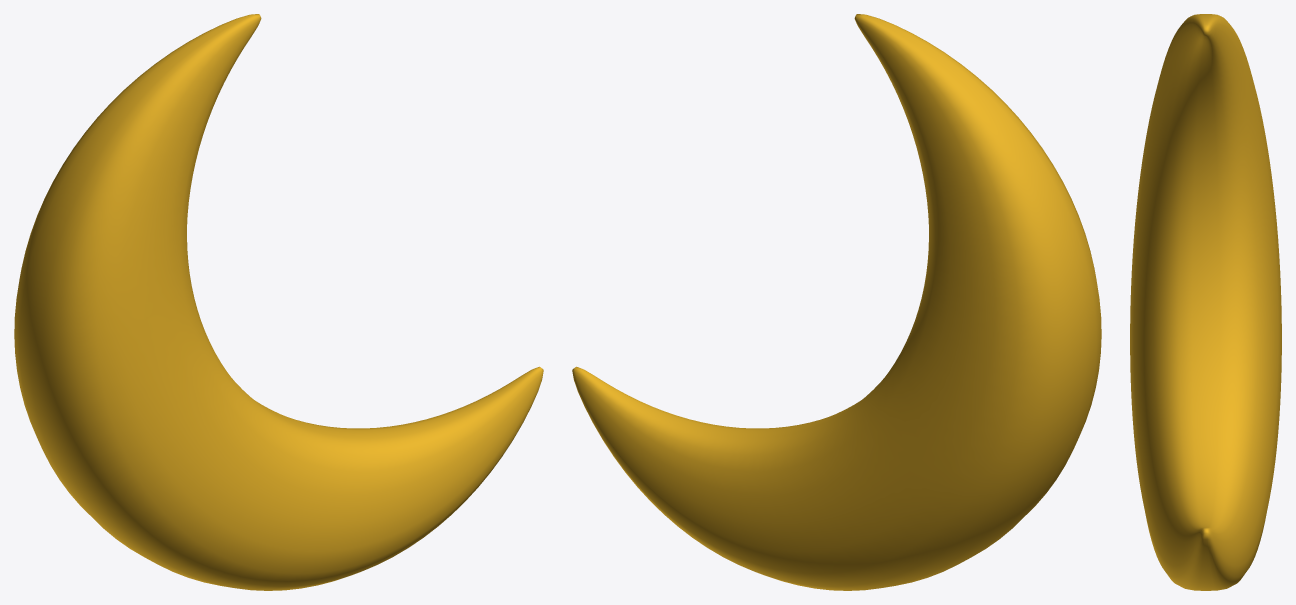
The model's file is moon.glb.
The picture shows the model from 3 angles, left to right: view 1: azimuth 30°, elevation 25°; view 2: azimuth 150°, elevation 25°; view 3: azimuth 270°, elevation 25°; orthographic projection. The views are drawn at different scales.
Parts seen in each view (by area): view 1: Moon; view 2: Moon; view 3: Moon.
Part boxes in pixels (x1,y1,x2,y2): Moon: [14, 14, 543, 590]; Moon: [572, 14, 1101, 590]; Moon: [1130, 14, 1281, 590].
Bounding box in the file's own units: 0.9104 × 0.9719 × 0.2599.
